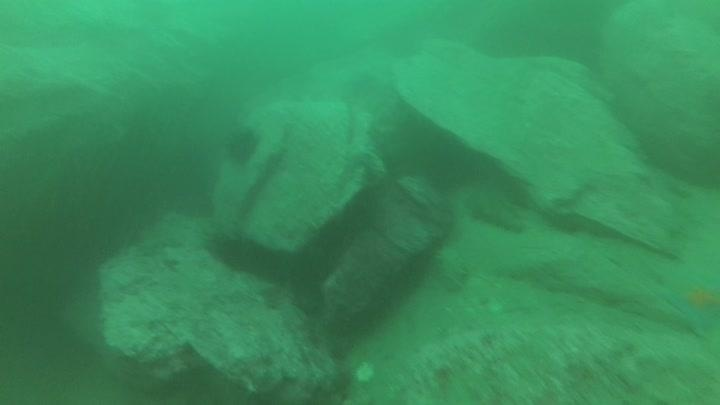echinus: (207, 228, 275, 279), (222, 123, 263, 168)
holothurian: (433, 242, 473, 296)
starfish: (658, 272, 719, 339)
